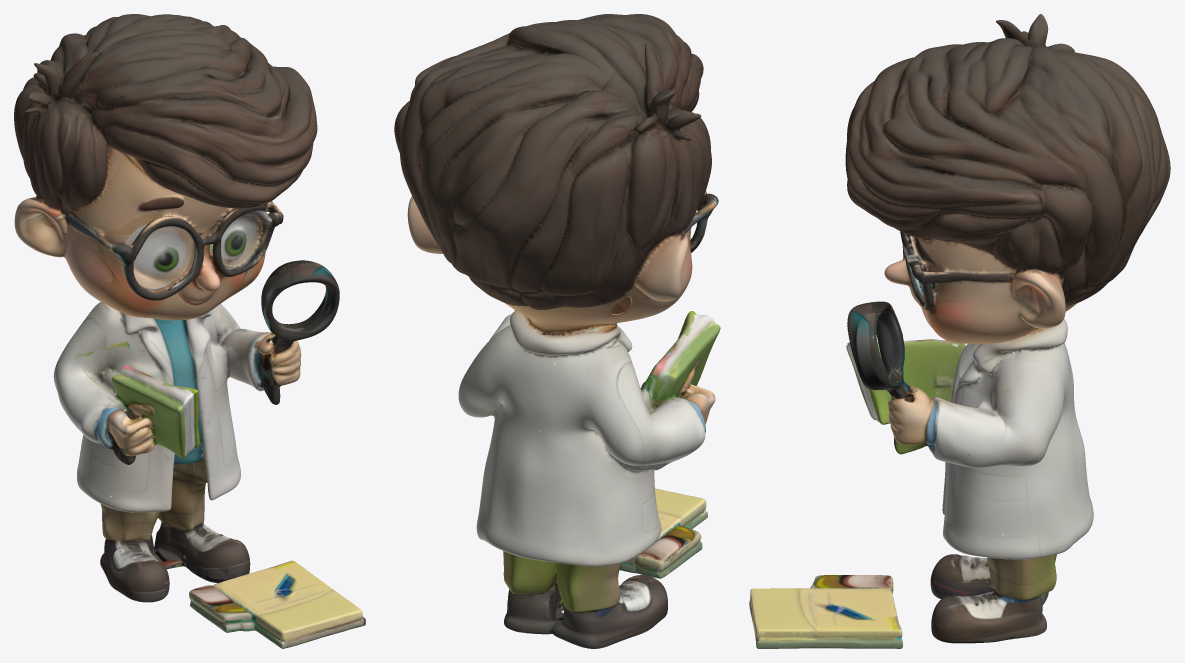
File: research.glb
3 views of the same model, side by side, from view 1: azimuth 30°, elevation 25°; view 2: azimuth 150°, elevation 25°; view 3: azimuth 270°, elevation 25° (orthographic). The views are drawn at different scales.
Size of the model in its own units: 33381 by 65490 by 44574.
Materials: 1 (1 with a texture image).
